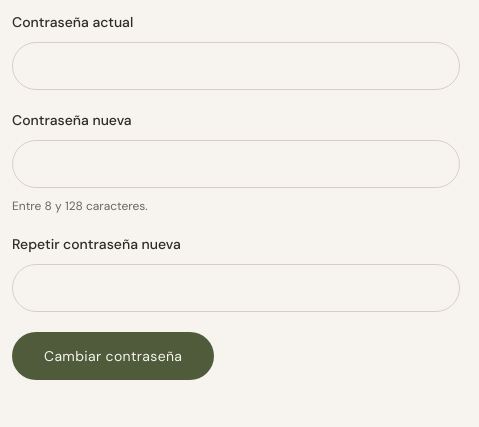
formulario de cambio de contrasena › con la contrasena actual incorrecta lo senala en ese campo y vacia las contrasenas
Type "contrasena-actual-123" into the password field labelled "Contraseña actual".
click(236, 66); type("contrasena-actual-123")  # box [12, 42, 460, 90]
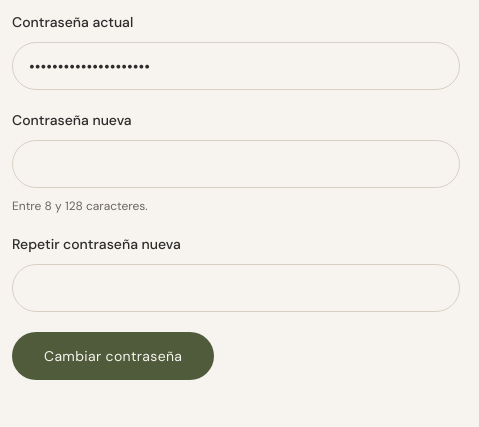
Type "contrasena-nueva-456" into the password field labelled "Contraseña nueva".
click(236, 164); type("contrasena-nueva-456")  # box [12, 140, 460, 188]
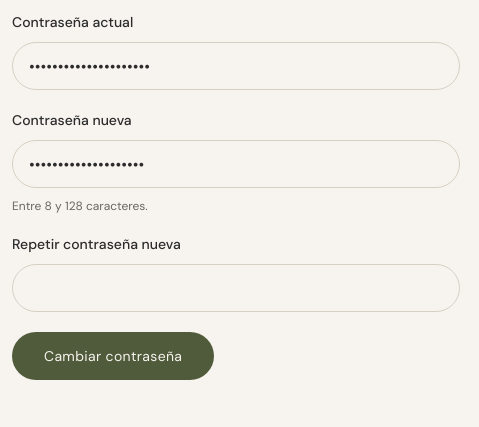
Type "contrasena-nueva-456" into the password field labelled "Repetir contraseña nueva".
click(236, 288); type("contrasena-nueva-456")  # box [12, 264, 460, 312]
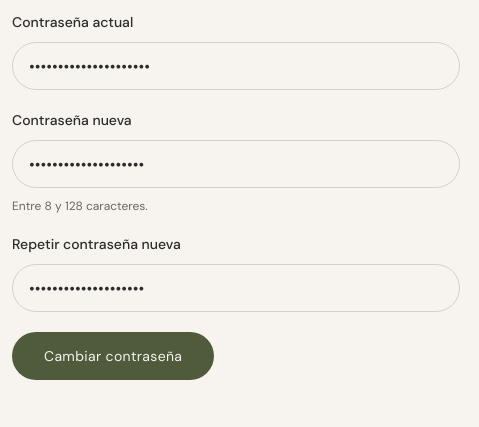
Click the button "Cambiar contraseña".
click(113, 356)  # box [12, 332, 214, 380]
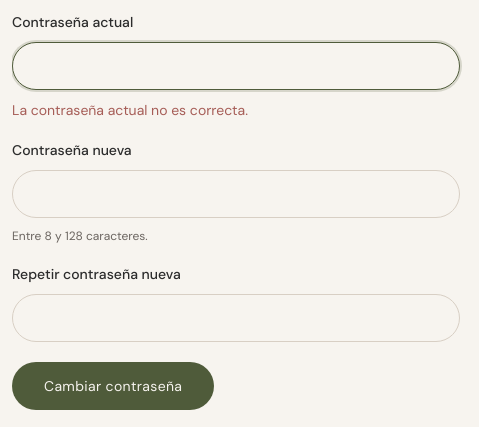
Now the text "La contraseña actual no es correcta." is shown, box [12, 101, 248, 119]
